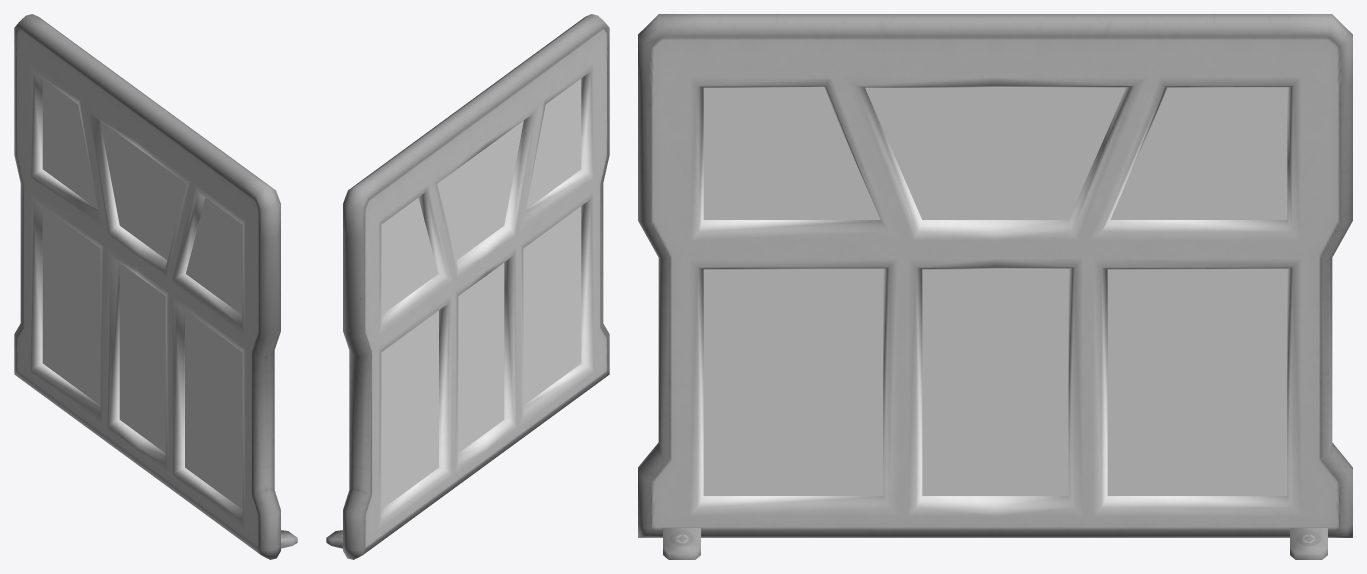
The model's file is SM_MStair01-Parapet-150-1.FBX.
The picture shows the model from 3 angles, left to right: view 1: azimuth 30°, elevation 25°; view 2: azimuth 150°, elevation 25°; view 3: azimuth 270°, elevation 25°; orthographic projection. The views are drawn at different scales.
Parts seen in each view (by area): view 1: SM_MStair01-Parapet-150-1; view 2: SM_MStair01-Parapet-150-1; view 3: SM_MStair01-Parapet-150-1.
Boxes of the visible parts, bbox=[...] form: SM_MStair01-Parapet-150-1: bbox=[14, 14, 297, 559]; SM_MStair01-Parapet-150-1: bbox=[326, 14, 609, 559]; SM_MStair01-Parapet-150-1: bbox=[638, 14, 1352, 559].
Size of what is drawn, in the model's own units: 15.46 by 150 by 120.
